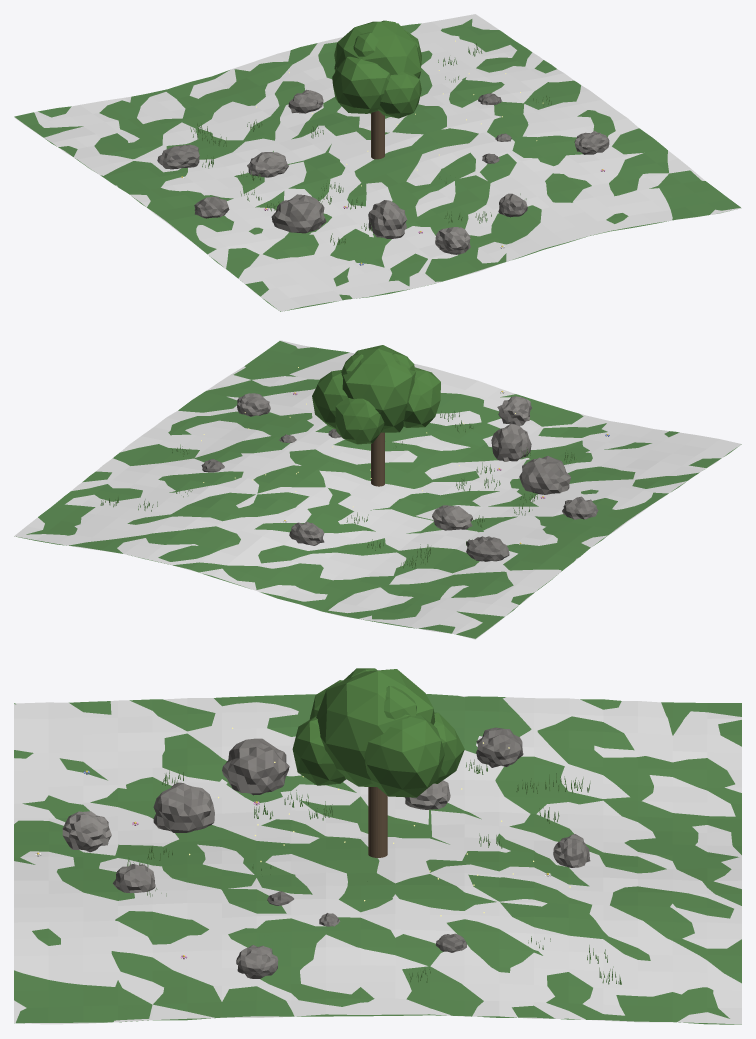
Rendered from AboutSpaceNature.glb.
3 views of the same model, one above another, from view 1: azimuth 30°, elevation 25°; view 2: azimuth 150°, elevation 25°; view 3: azimuth 270°, elevation 25° (orthographic). The views are drawn at different scales.
Visible parts, largest first — view 1: Nature_Ground, Nature_Ground.001, Nature_Foliage_1, Nature_Foliage_2, Nature_Rock_1, Nature_Foliage_4, Nature_Rock_7, Nature_Rock_3, Nature_Rock_2, Nature_Rock_12, Nature_Rock_10, Nature_TreeTrunk (+3 smaller); view 2: Nature_Ground, Nature_Ground.001, Nature_Foliage_1, Nature_Foliage_5, Nature_Foliage_2, Nature_Rock_1, Nature_Foliage_3, Nature_Rock_7, Nature_Rock_3, Nature_Rock_2, Nature_Rock_12, Nature_TreeTrunk (+3 smaller); view 3: Nature_Ground, Nature_Ground.001, Nature_Foliage_1, Nature_Foliage_3, Nature_Rock_1, Nature_Rock_7, Nature_Foliage_4, Nature_Rock_12, Nature_Rock_3, Nature_TreeTrunk, Nature_Foliage_5, Nature_Rock_10 (+4 smaller).
Boxes of the visible parts, x1=… form: Nature_Ground: x1=14, y1=14, x2=741, y2=311; Nature_Ground.001: x1=14, y1=19, x2=740, y2=311; Nature_Foliage_1: x1=334, y1=21, x2=421, y2=78; Nature_Foliage_2: x1=332, y1=56, x2=390, y2=113; Nature_Rock_1: x1=271, y1=194, x2=326, y2=233; Nature_Foliage_4: x1=378, y1=71, x2=421, y2=118; Nature_Rock_7: x1=368, y1=200, x2=407, y2=238; Nature_Rock_3: x1=157, y1=144, x2=199, y2=169; Nature_Rock_2: x1=247, y1=152, x2=288, y2=177; Nature_Rock_12: x1=435, y1=227, x2=470, y2=254; Nature_Rock_10: x1=574, y1=131, x2=609, y2=154; Nature_TreeTrunk: x1=371, y1=111, x2=384, y2=159; Nature_Ground: x1=14, y1=340, x2=740, y2=639; Nature_Ground.001: x1=14, y1=341, x2=741, y2=638; Nature_Foliage_1: x1=341, y1=345, x2=416, y2=432; Nature_Foliage_5: x1=335, y1=397, x2=384, y2=444; Nature_Foliage_2: x1=403, y1=367, x2=440, y2=427; Nature_Rock_1: x1=519, y1=456, x2=570, y2=494; Nature_Foliage_3: x1=312, y1=370, x2=347, y2=429; Nature_Rock_7: x1=491, y1=424, x2=531, y2=461; Nature_Rock_3: x1=466, y1=536, x2=509, y2=561; Nature_Rock_2: x1=432, y1=505, x2=472, y2=530; Nature_Rock_12: x1=497, y1=396, x2=531, y2=425; Nature_TreeTrunk: x1=371, y1=432, x2=384, y2=486; Nature_Ground: x1=14, y1=695, x2=741, y2=1024; Nature_Ground.001: x1=14, y1=694, x2=741, y2=1024; Nature_Foliage_1: x1=316, y1=669, x2=435, y2=786; Nature_Foliage_3: x1=364, y1=715, x2=444, y2=797; Nature_Rock_1: x1=222, y1=738, x2=289, y2=795; Nature_Rock_7: x1=153, y1=782, x2=214, y2=832; Nature_Foliage_4: x1=292, y1=715, x2=345, y2=785; Nature_Rock_12: x1=62, y1=811, x2=111, y2=852; Nature_Rock_3: x1=476, y1=727, x2=523, y2=767; Nature_TreeTrunk: x1=368, y1=787, x2=387, y2=857; Nature_Foliage_5: x1=433, y1=712, x2=464, y2=783; Nature_Rock_10: x1=236, y1=945, x2=278, y2=978.
Size of the model in its own units: 30 by 9.59 by 30.
